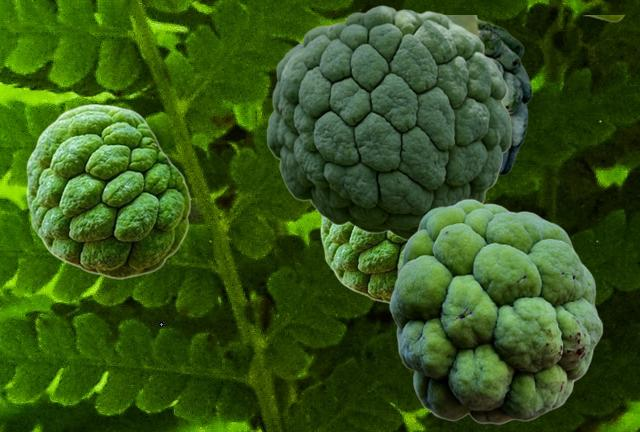atis: (266, 5, 511, 240), (389, 198, 602, 424), (26, 103, 190, 278), (447, 15, 623, 178), (320, 216, 405, 305)
